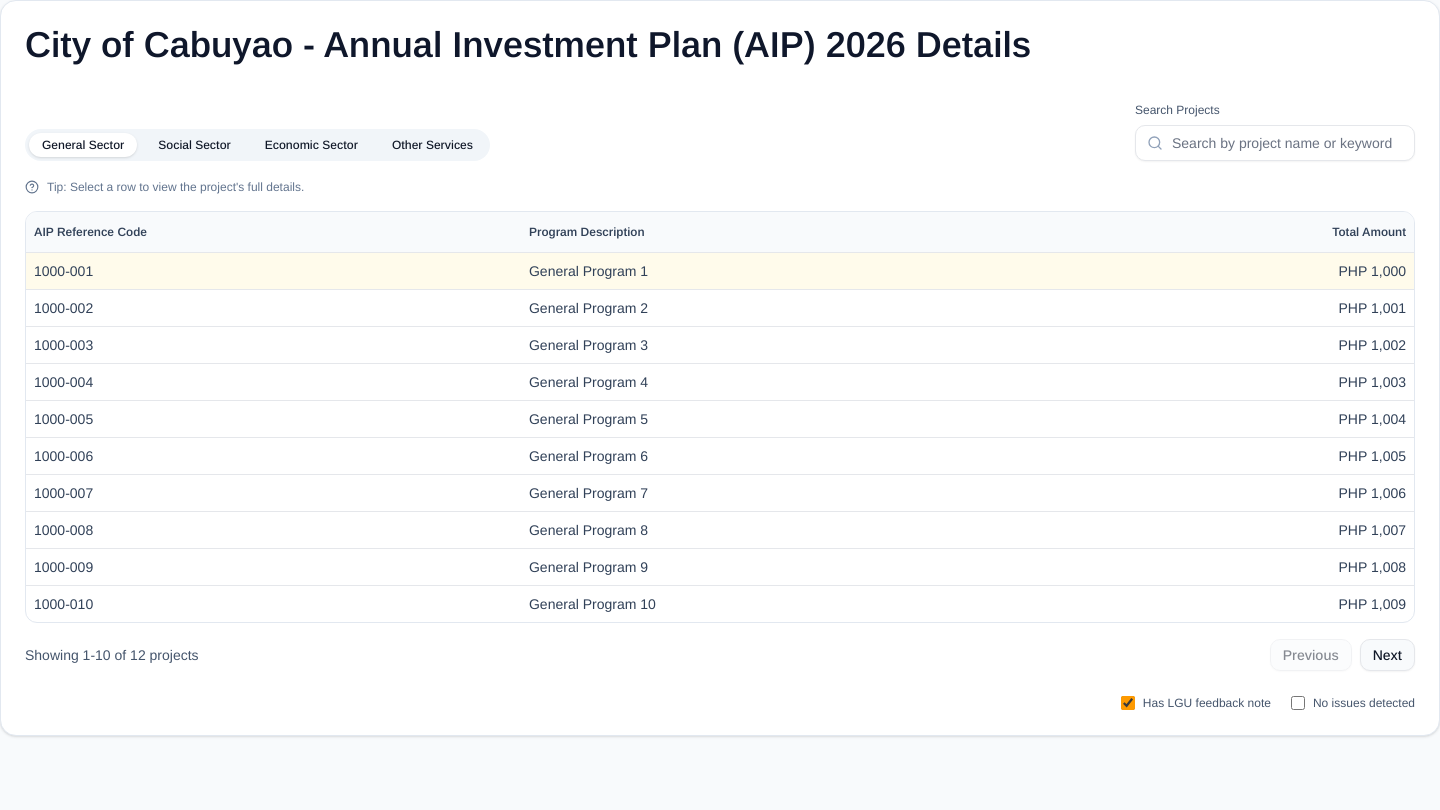
Test: AipProjectsTable › resets offset when search changes
Click the button "Next" at (1387, 654), box [1360, 638, 1415, 670]
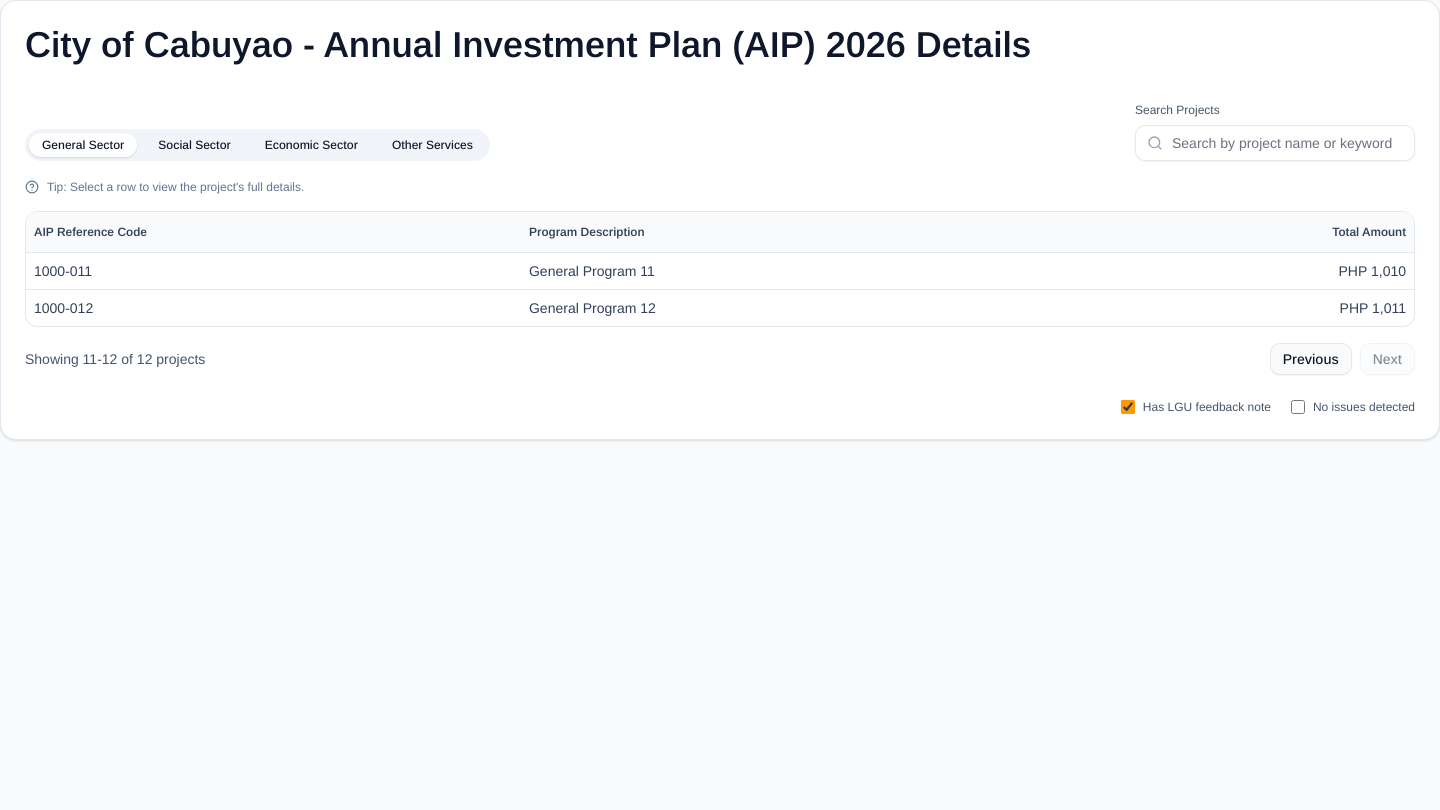
Now the text "Showing 11-12 of 12 projects" is shown, box [25, 348, 205, 368]
Type "General Program 12" into the field with placeholder "Search by project name or keyword" at (1275, 143), box [1135, 125, 1415, 161]
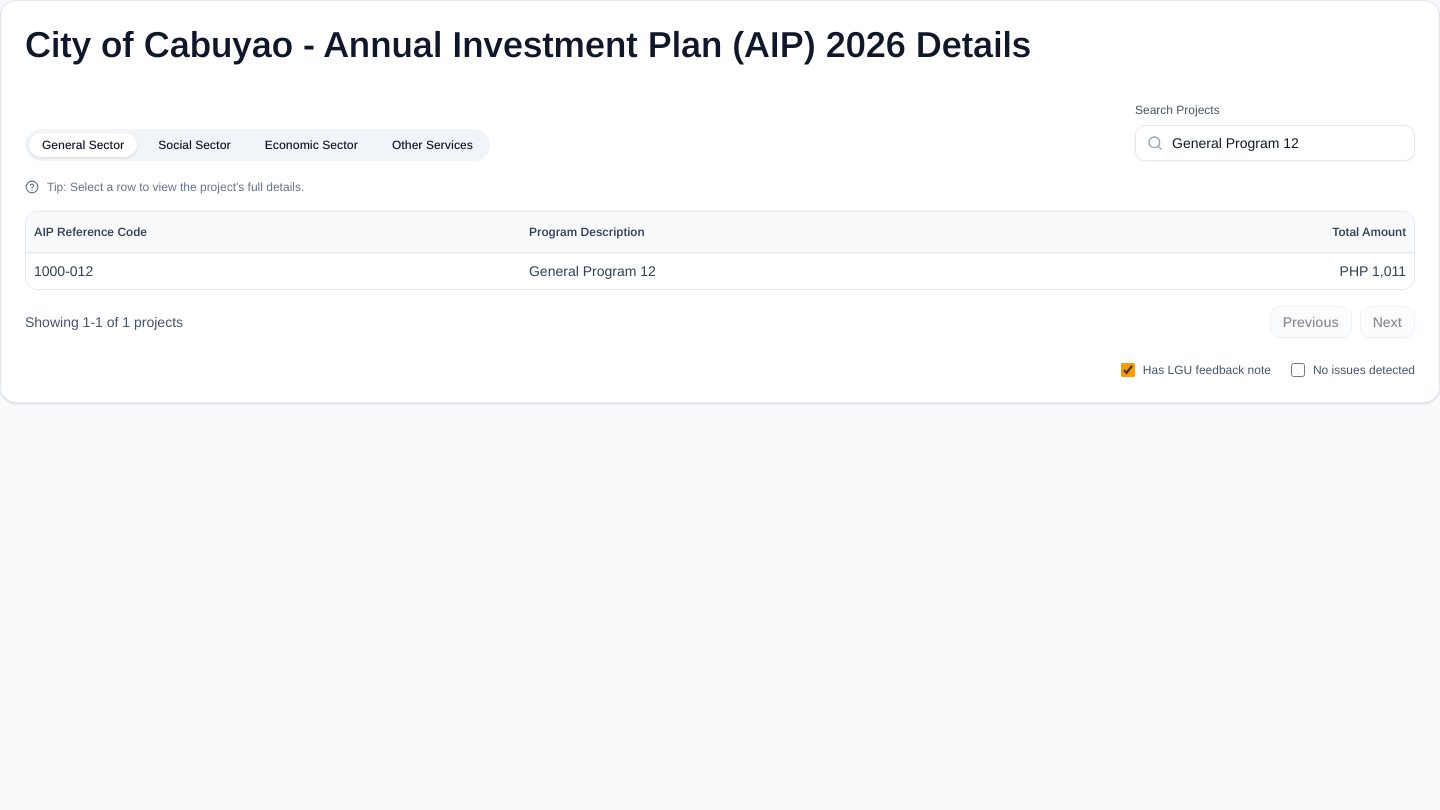
Now the text "Showing 1-1 of 1 projects" is shown, box [25, 312, 183, 332]
